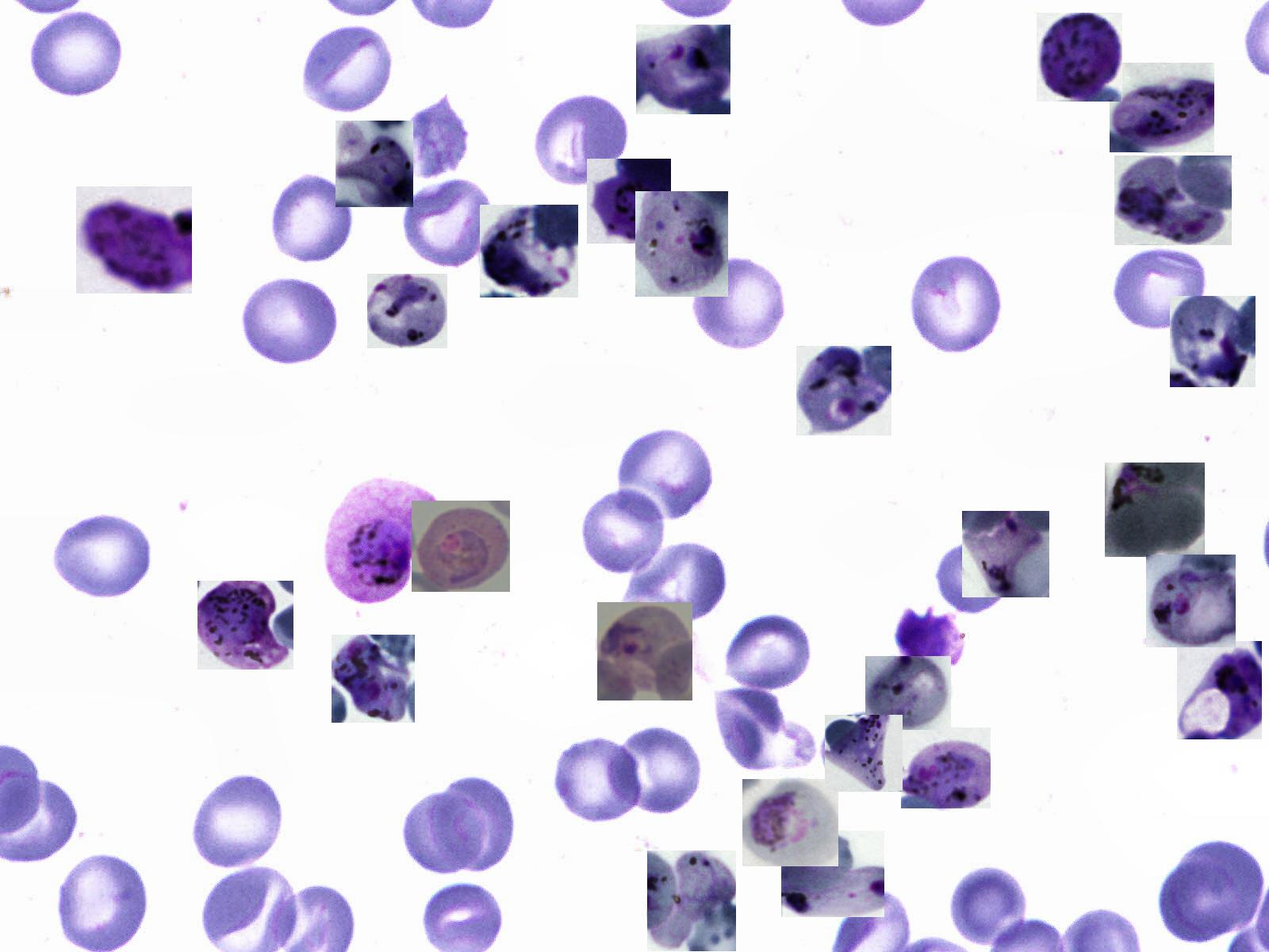Infected: (326, 478, 442, 601), (76, 186, 192, 294), (1114, 155, 1232, 245), (635, 191, 728, 297), (597, 602, 692, 701), (1105, 463, 1205, 557), (1110, 63, 1214, 152), (480, 205, 578, 298), (647, 850, 736, 951), (412, 501, 510, 592), (781, 831, 884, 917), (796, 346, 891, 436), (197, 581, 293, 670), (636, 25, 730, 114), (742, 779, 838, 866), (1177, 641, 1262, 739), (1146, 555, 1236, 647), (1170, 296, 1256, 387), (1037, 13, 1122, 102), (962, 511, 1049, 597), (332, 635, 415, 723), (901, 727, 991, 808), (587, 159, 671, 244), (336, 121, 413, 207), (865, 656, 951, 730), (825, 715, 903, 792), (367, 274, 447, 348)
Uninfected: (53, 851, 155, 951), (235, 275, 345, 367), (615, 427, 719, 523), (48, 509, 156, 600), (535, 87, 632, 188), (190, 774, 287, 872), (398, 171, 494, 270), (907, 251, 1001, 352), (1171, 840, 1267, 938), (22, 10, 128, 98), (1110, 244, 1212, 332), (627, 539, 730, 625), (691, 252, 784, 347), (431, 774, 519, 874), (611, 725, 704, 819), (714, 688, 816, 772), (267, 172, 358, 265), (303, 25, 397, 115), (577, 489, 668, 577), (944, 862, 1033, 950), (552, 735, 642, 822), (1156, 859, 1244, 946), (406, 790, 491, 874), (728, 612, 818, 690), (406, 92, 473, 179), (936, 539, 1010, 616)
